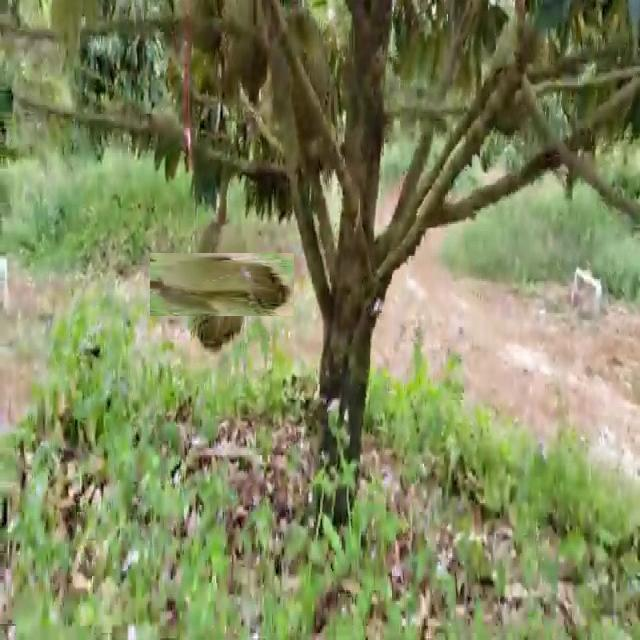durian: (170, 232, 274, 336)
